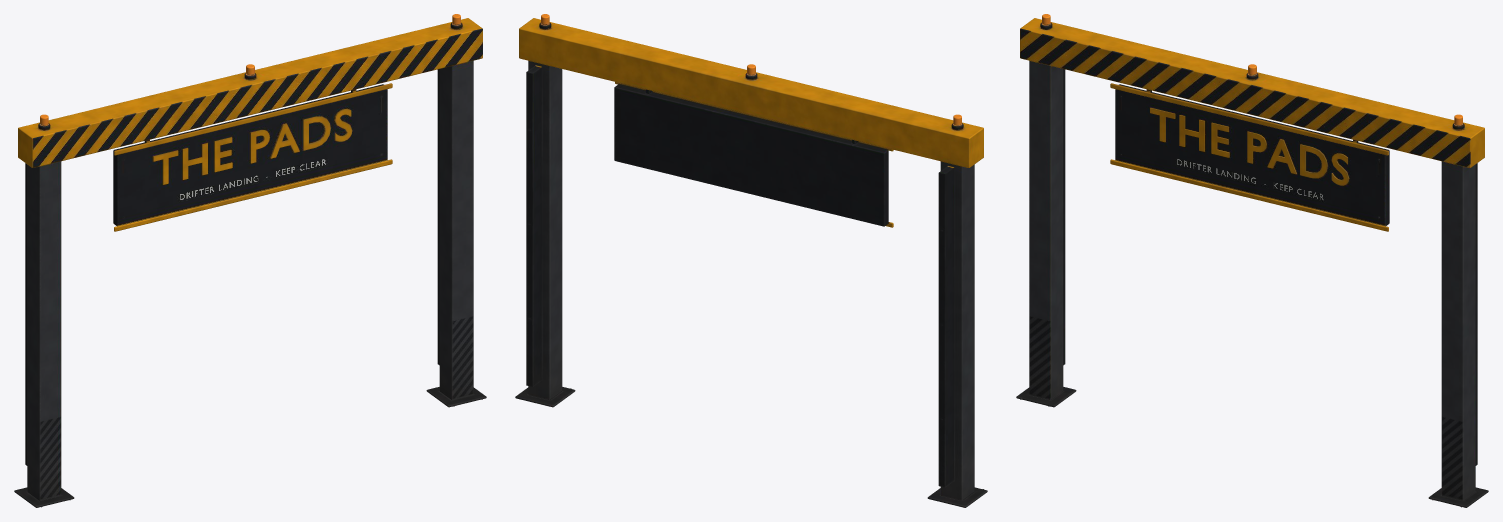
The model's file is sign_the_pads.glb.
3 renders of one model, left to right at view 1: azimuth 30°, elevation 25°; view 2: azimuth 150°, elevation 25°; view 3: azimuth 330°, elevation 25°, orthographic.
Parts seen in each view (by area): view 1: sign_the_pads; view 2: sign_the_pads; view 3: sign_the_pads.
Part boxes in pixels (bbox=[...]): sign_the_pads: bbox=[14, 14, 486, 507]; sign_the_pads: bbox=[515, 14, 987, 507]; sign_the_pads: bbox=[1016, 14, 1488, 507].
Size of the model in its own units: 7 by 5.63 by 0.7352.
1 material, 1 textured.
